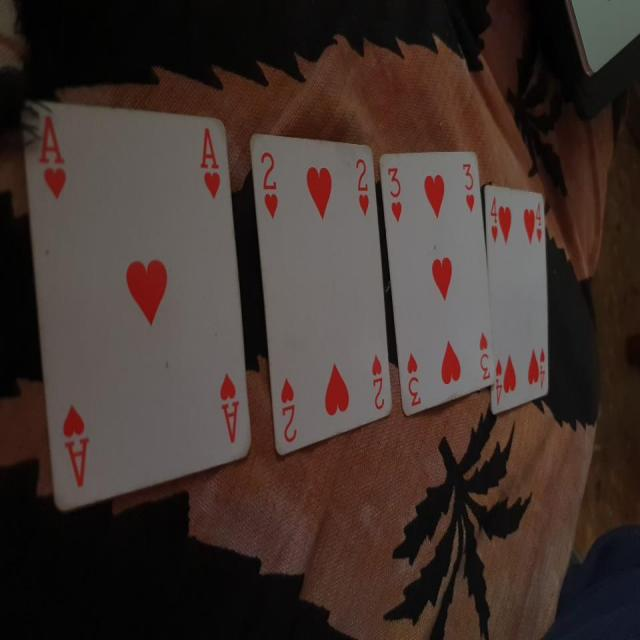2 Hearts: (239, 118, 402, 473)
3 Hearts: (377, 142, 500, 425)
4 Hearts: (482, 173, 562, 424)
A Hearts: (6, 88, 251, 511)
